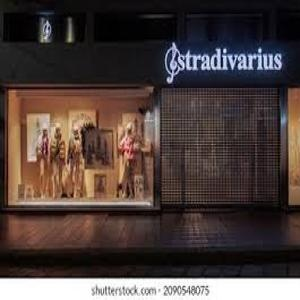stradivarius: (144, 20, 300, 58)
